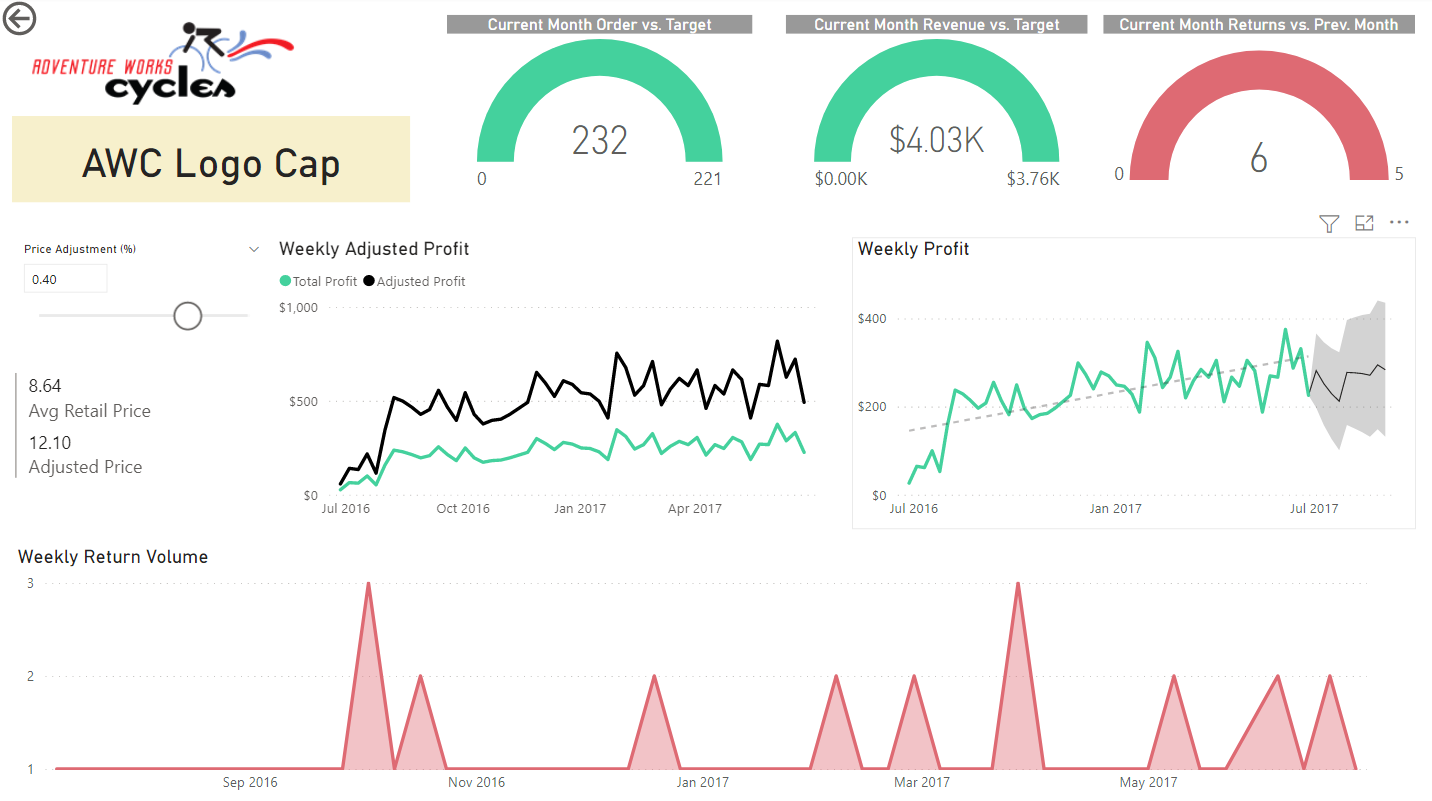

The page's visual inventory and layout, read from the dashboard file:
{"tool":"powerbi","page":{"name":"Product Detail","canvas":[1280,720],"ordinal":1},"visuals":[{"type":"lineChart","title":"Weekly Profit","fields":{"Y":["AW_Sales.Total Profit"],"Category":["AW_Calendar_Lookup.Start of Week"]},"box":[761,214.7,501.7,260.5],"z":0},{"type":"image","box":[26.5,16.9,244.8,85.6],"z":1000},{"type":"areaChart","title":"Weekly Return Volume","fields":{"Y":["AW_Returns.Total Returns"],"Category":["AW_Calendar_Lookup.Start of Week"]},"box":[13.3,488.4,1227.7,230.4],"z":2000},{"type":"gauge","title":"Current Month Order vs. Target","fields":{"Y":["AW_Sales.Total Orders"],"MaxValue":["AW_Sales.Order Target"]},"box":[401,16.5,271.9,167.6],"z":3000},{"type":"gauge","title":"Current Month Revenue vs. Target","fields":{"Y":["AW_Sales.Total Revenue"],"MaxValue":["AW_Sales.Revenue Target"]},"box":[701.8,16.5,269.2,167.6],"z":4000},{"type":"gauge","title":"Current Month Returns vs. Prev. Month","fields":{"Y":["AW_Returns.Total Returns"],"MaxValue":["AW_Returns.Prev Month Returns"]},"box":[984.7,16.5,277.4,167.6],"z":5000},{"type":"card","title":"Top Product (Orders)","fields":{"Values":["Min(AW_Product_Lookup.ProductName)"]},"box":[12.8,106.8,354.5,76.9],"z":6000},{"type":"actionButton","box":[0,0,100,40],"z":7000},{"type":"slicer","fields":{"Values":["Price Adjustment (%).Price Adjustment (%)"]},"box":[10.9,213.5,235.2,117],"z":8000},{"type":"multiRowCard","fields":{"Values":["AW_Product_Lookup.Avg Retail Price","AW_Product_Lookup.Adjusted Price"]},"box":[11.4,330.3,197.9,113.9],"z":9000},{"type":"lineChart","title":"Weekly Adjusted Profit","fields":{"Y":["AW_Sales.Total Profit","AW_Sales.Adjusted Profit"],"Category":["AW_Calendar_Lookup.Start of Week"]},"box":[246,214.7,502.9,260.5],"z":10000}]}

Visuals, with their boxes in screenshot pixels (x1, y1, x2, y2), scaled from the page's 1280x720 canvas onto the 1432x801 screenshot:
"Weekly Profit" lineChart: 851:239:1413:529
image: 30:19:304:114
"Weekly Return Volume" areaChart: 15:543:1388:800
"Current Month Order vs. Target" gauge: 449:18:753:205
"Current Month Revenue vs. Target" gauge: 785:18:1086:205
"Current Month Returns vs. Prev. Month" gauge: 1102:18:1412:205
"Top Product (Orders)" card: 14:119:411:204
actionButton: 0:0:112:44
slicer - Price Adjustment (%).Price Adjustment (%): 12:238:275:368
multiRowCard - AW_Product_Lookup.Avg Retail Price x AW_Product_Lookup.Adjusted Price: 13:367:234:494
"Weekly Adjusted Profit" lineChart: 275:239:838:529
